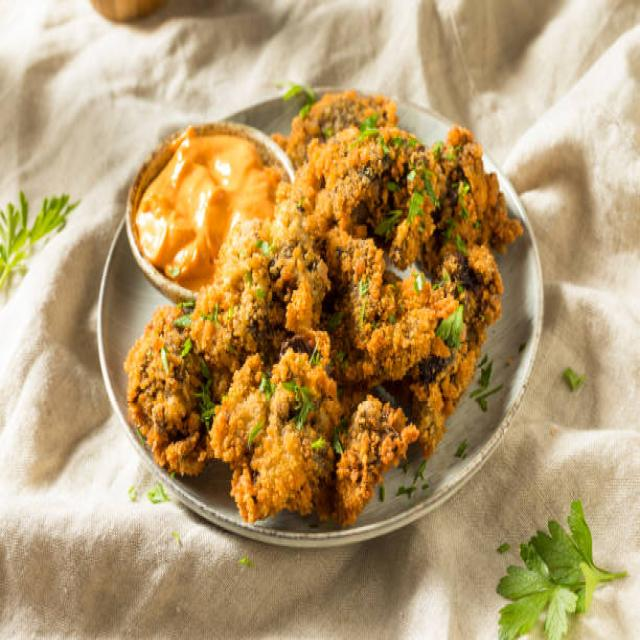Frango: (123, 86, 526, 529)
